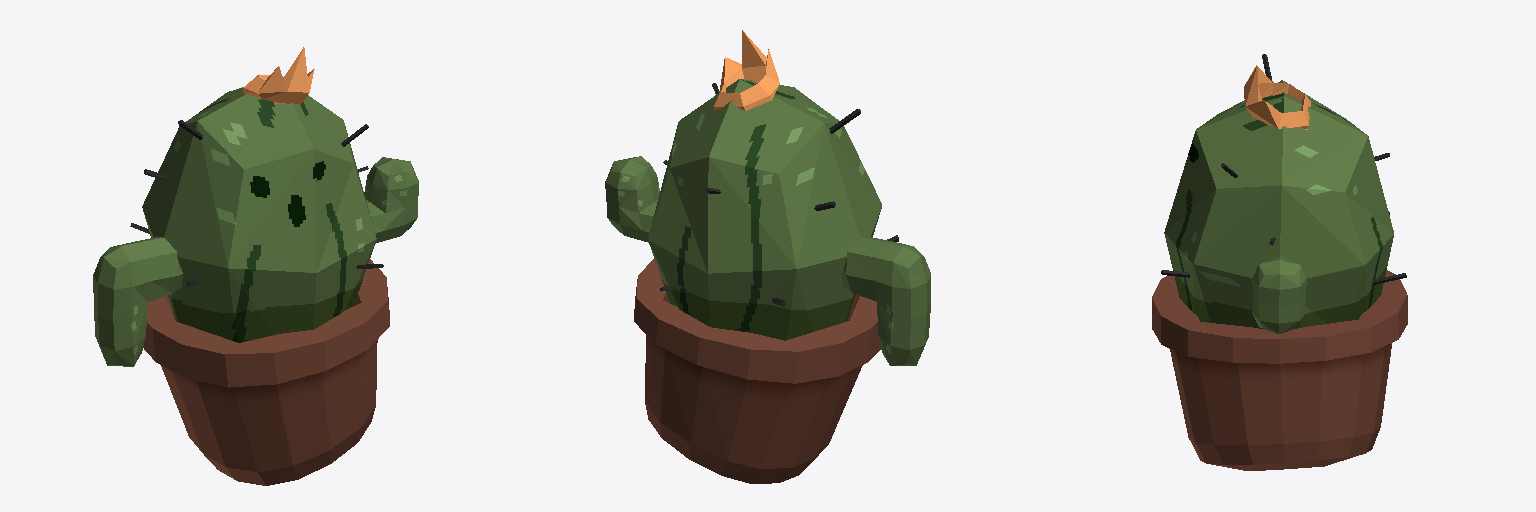
The picture shows the model from 3 angles: view 1: azimuth 30°, elevation 25°; view 2: azimuth 150°, elevation 25°; view 3: azimuth 270°, elevation 25°; orthographic projection.
Parts seen in each view (by area): view 1: default; view 2: default; view 3: default.
Part boxes in pixels (x1,y1,x2,y2): default: (93,47,418,485); default: (605,30,930,483); default: (1152,54,1407,470).
Size of the model in its own units: 2.34 by 2.94 by 1.64.
Materials: 1 (1 with a texture image).